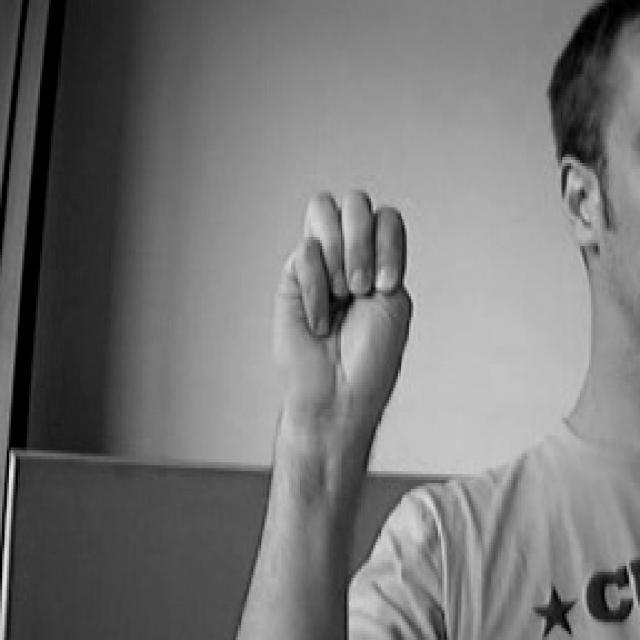M: (261, 172, 431, 427)
